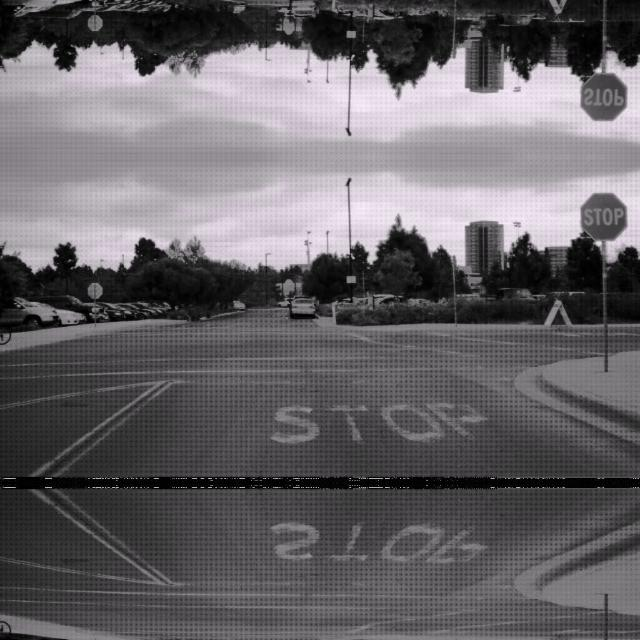stop: (579, 190, 627, 240), (579, 72, 627, 122)
